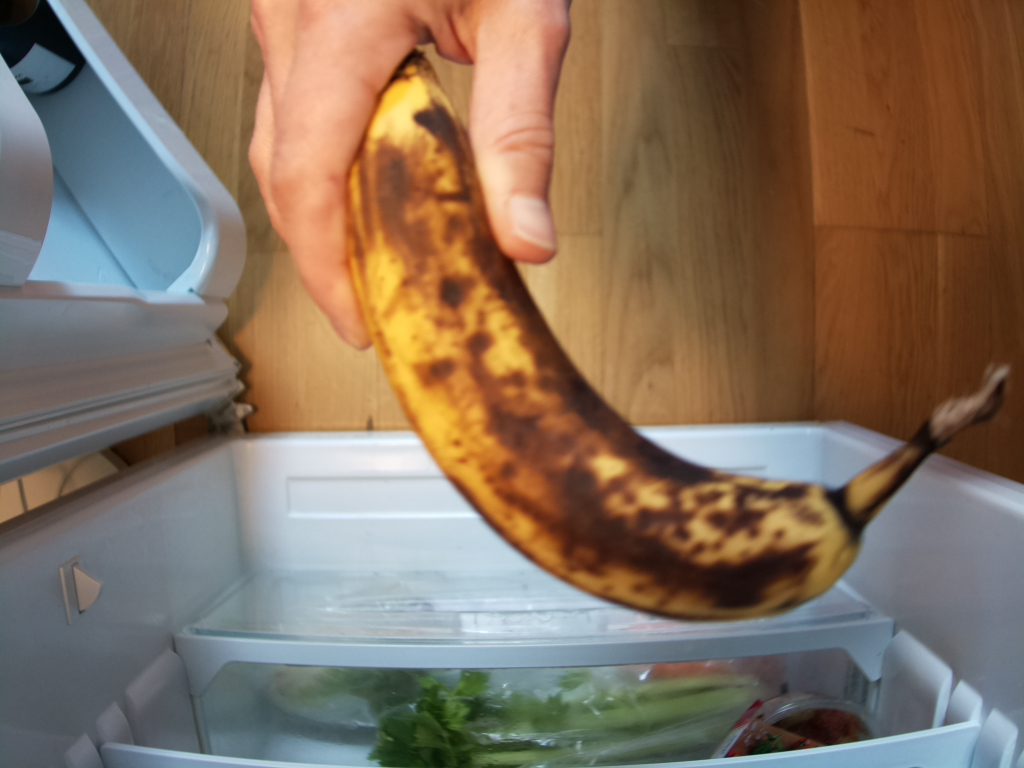banana-overripe: (336, 52, 1008, 619)
